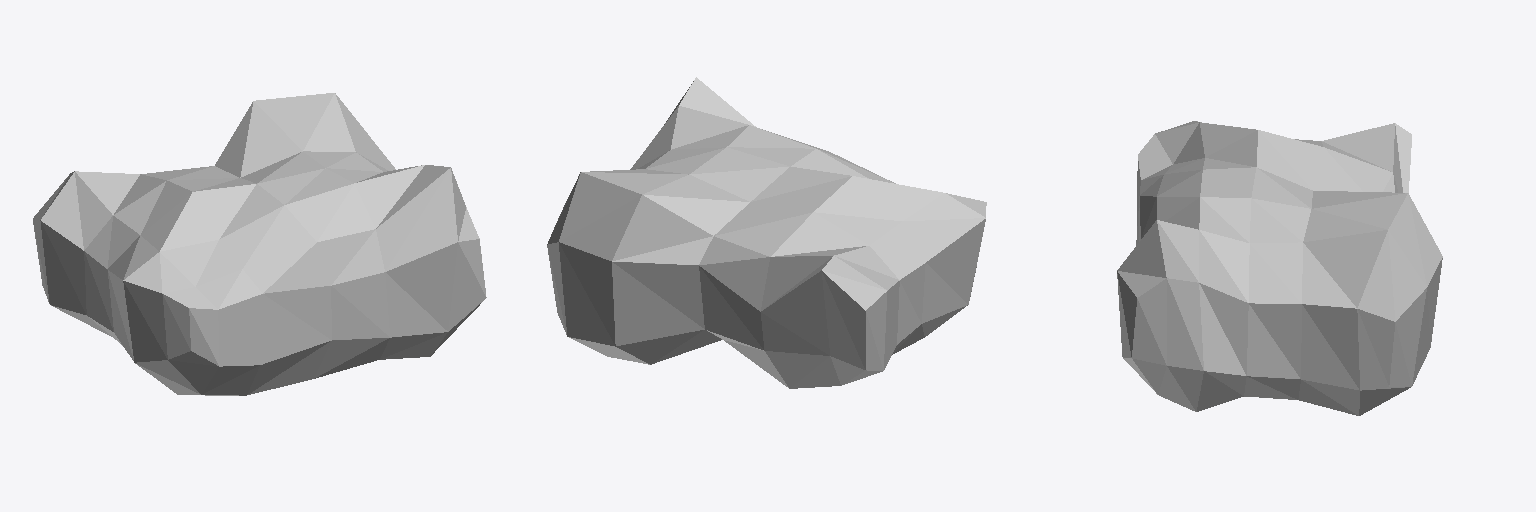
File: rock.obj
3 views of the same model, side by side, from view 1: azimuth 30°, elevation 25°; view 2: azimuth 150°, elevation 25°; view 3: azimuth 270°, elevation 25° (orthographic).
Visible parts, largest first — view 1: Cube; view 2: Cube; view 3: Cube.
Part boxes in pixels (x1,y1,x2,y2): Cube: (33,93,486,395); Cube: (547,77,986,388); Cube: (1117,121,1442,415).
Size of the model in its own units: 0.7883 by 0.4344 by 0.6338.